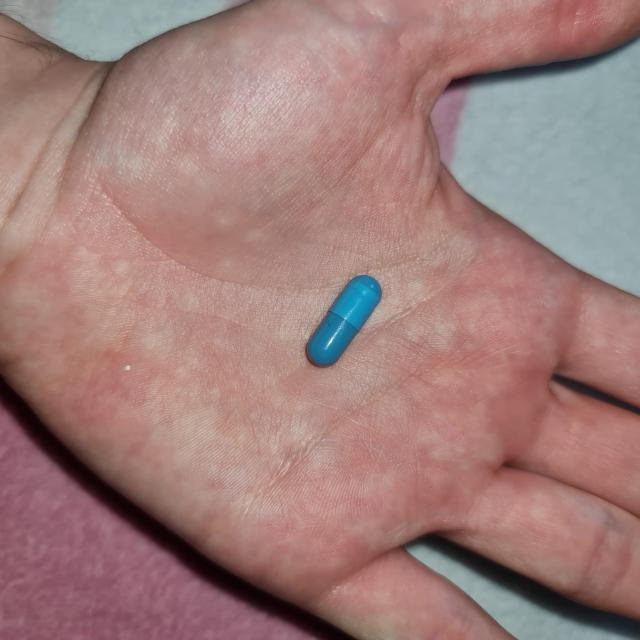pill: (301, 272, 386, 370)
